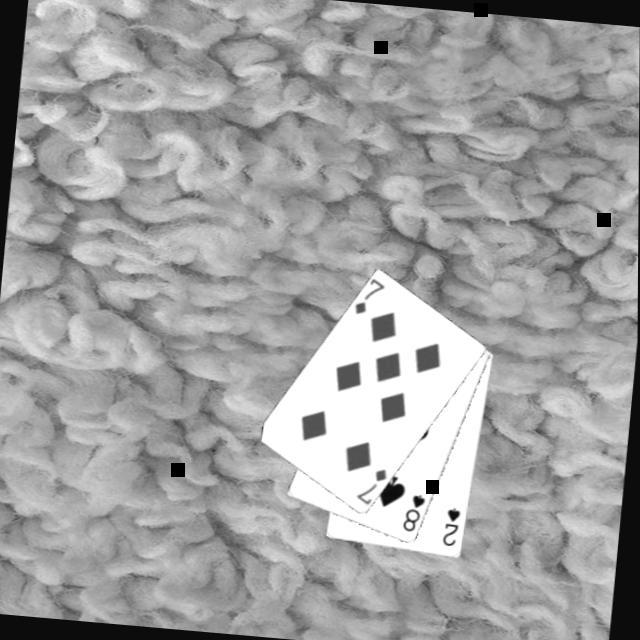2S: (440, 502, 464, 549)
7D: (354, 463, 392, 508), (352, 274, 389, 319)
8S: (400, 489, 430, 536)
